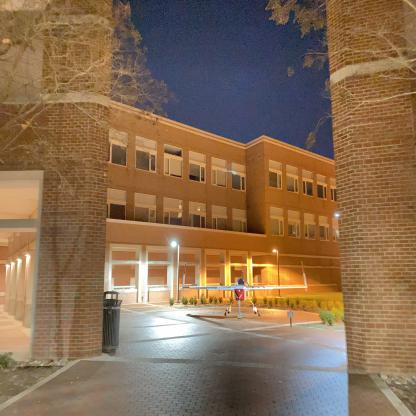eb2: (85, 94, 346, 344)
